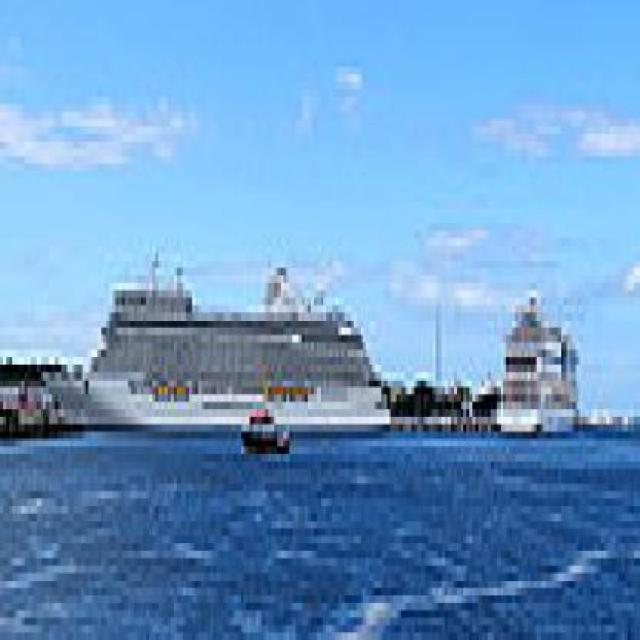cruise: (74, 254, 410, 456), (494, 284, 586, 440)
